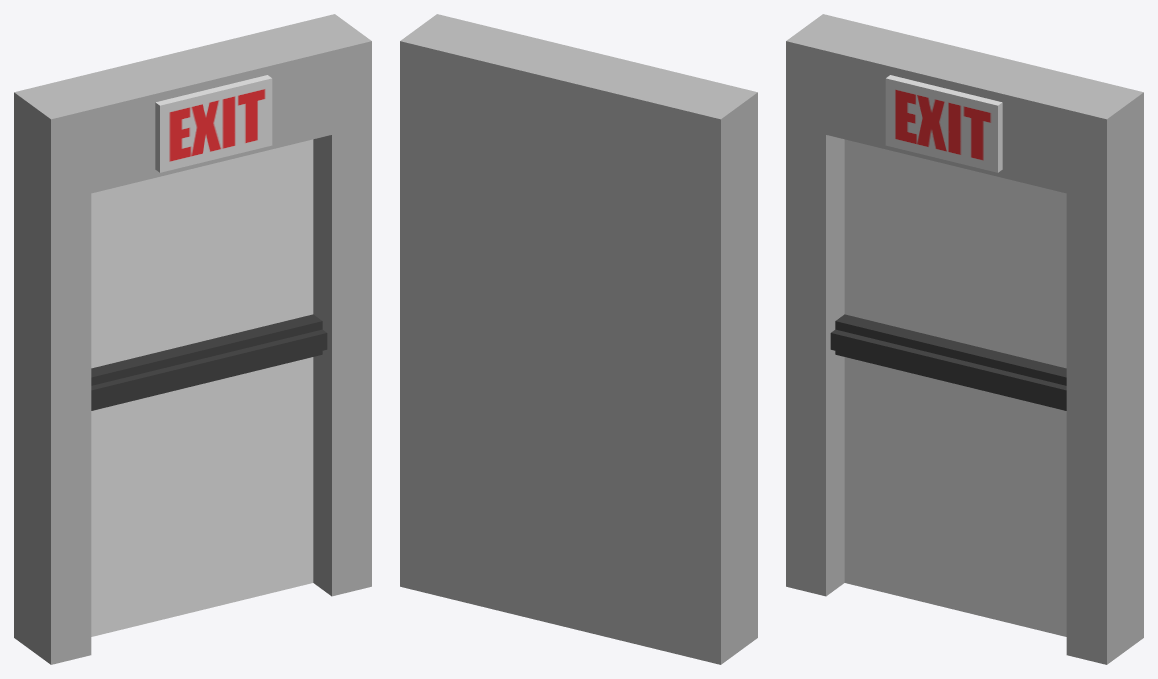
The model's file is ExitDoor.fbx.
3 views of the same model, side by side, from view 1: azimuth 30°, elevation 25°; view 2: azimuth 150°, elevation 25°; view 3: azimuth 330°, elevation 25° (orthographic).
Visible parts, largest first — view 1: Cube; view 2: Cube; view 3: Cube.
Boxes of the visible parts, left/top/right/bottom form: Cube: left=14, top=14, right=371, bottom=664; Cube: left=400, top=14, right=757, bottom=664; Cube: left=786, top=14, right=1143, bottom=664.
Size of the model in its own units: 200 by 325 by 45.
Materials: 1 (1 with a texture image).
